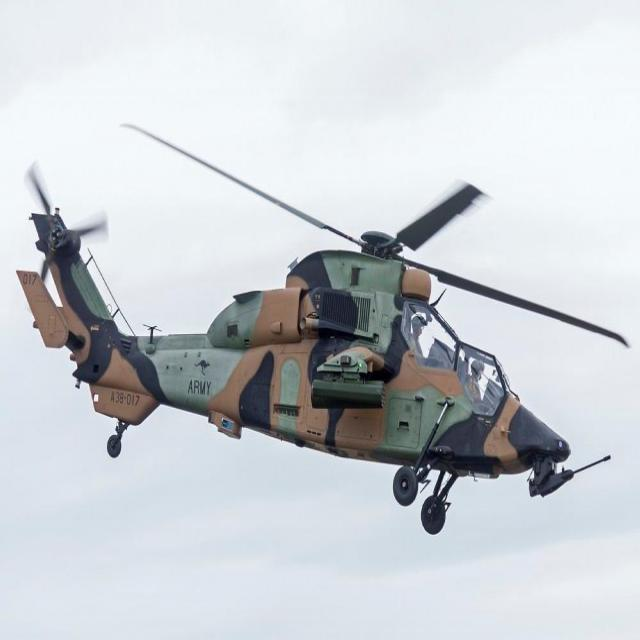MIL_HELO: (18, 116, 628, 548)
